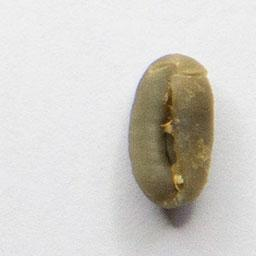peaberry: (123, 51, 217, 215)
